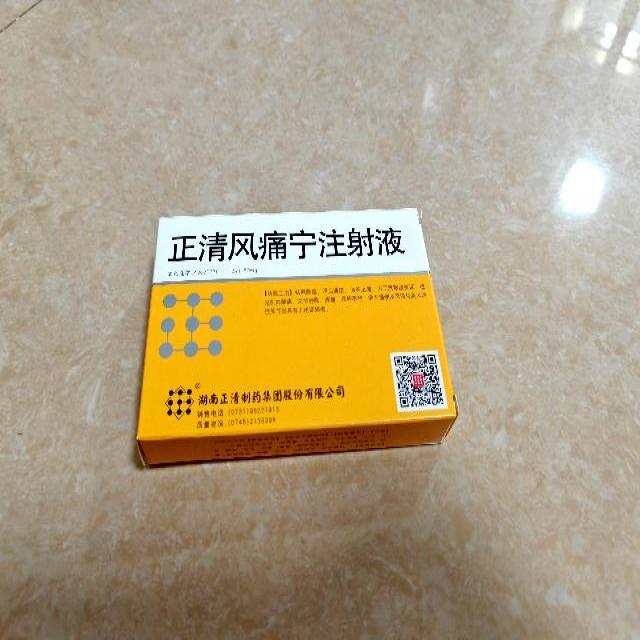box: (136, 208, 458, 470)
